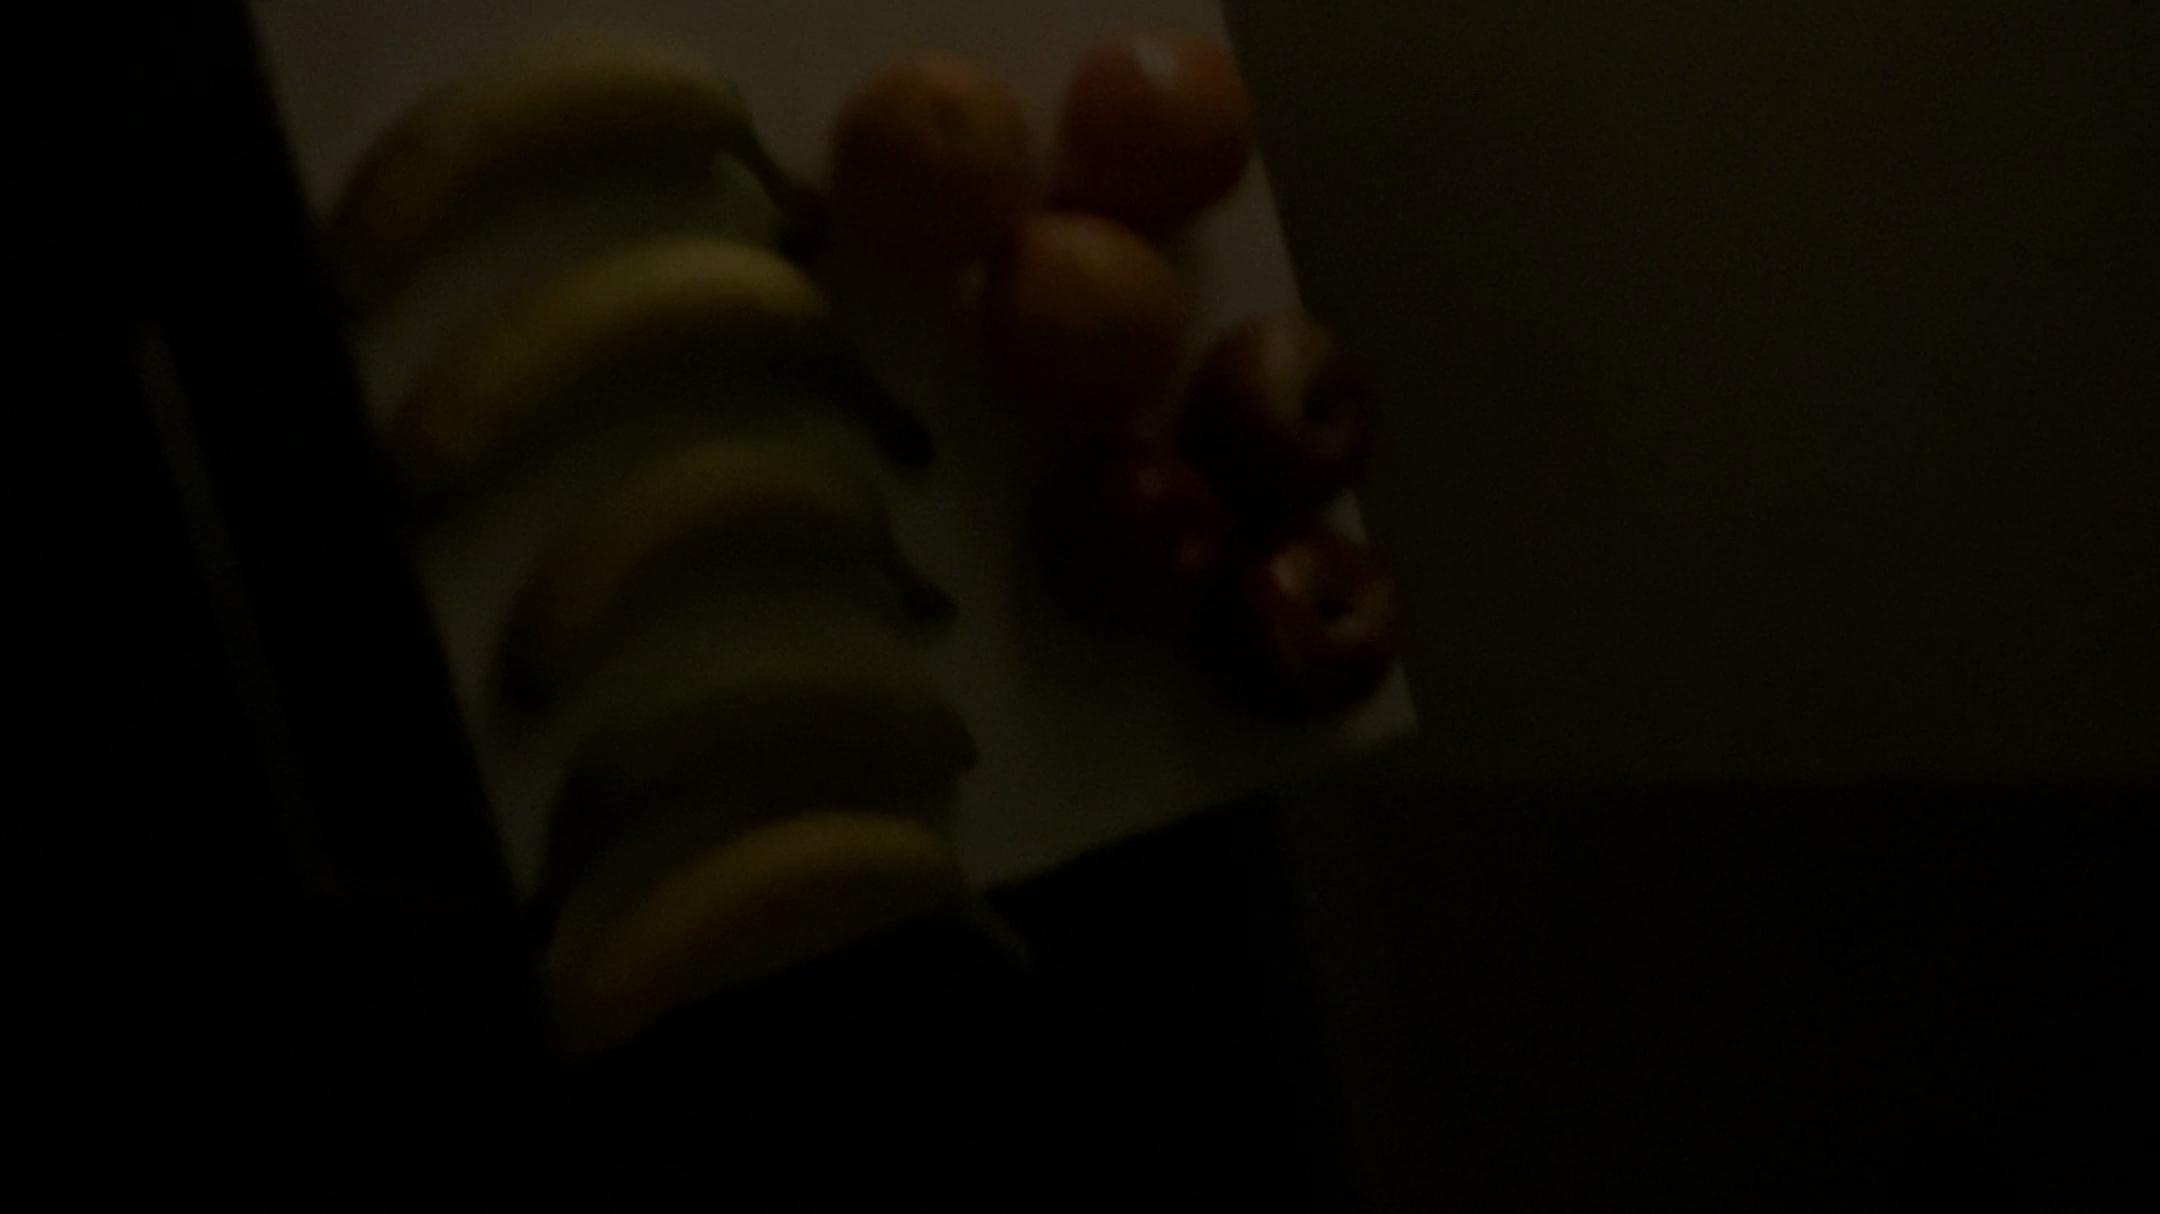apple: (1175, 509, 1414, 741), (1037, 421, 1248, 634), (1176, 289, 1375, 514)
banana: (369, 223, 969, 479), (438, 433, 972, 706), (525, 819, 1016, 1055), (309, 45, 832, 263), (484, 643, 1010, 859)
orange: (1055, 19, 1280, 232), (969, 209, 1175, 433), (823, 49, 1035, 252)
